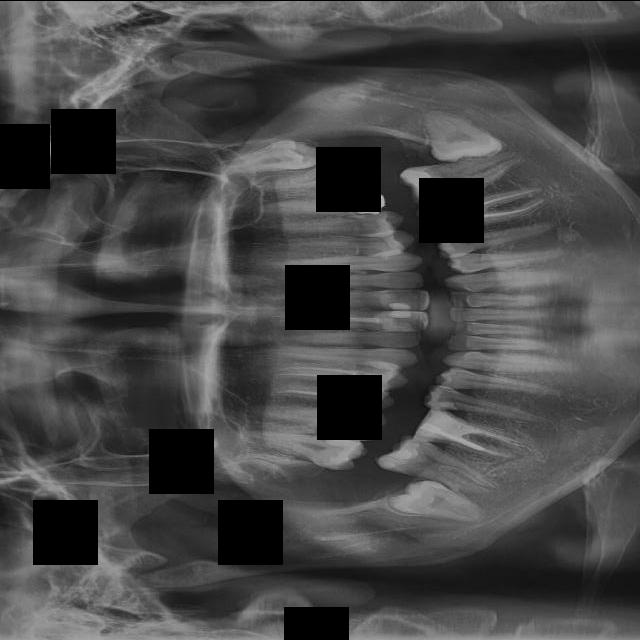72: (230, 448, 322, 488)
74: (477, 198, 546, 220), (468, 188, 534, 210), (472, 426, 523, 446), (277, 387, 354, 399), (276, 313, 378, 322), (276, 369, 356, 380), (278, 363, 357, 374), (483, 447, 509, 459)
NucleOSS Implant: (326, 181, 387, 226)
Sterngold Implant: (441, 232, 458, 239)
Straumann Implant: (419, 407, 476, 445), (420, 198, 480, 234), (380, 432, 426, 476), (421, 420, 486, 451), (337, 401, 381, 444), (355, 353, 400, 395), (399, 158, 440, 202), (324, 431, 366, 468), (376, 310, 428, 332), (376, 288, 429, 309), (345, 387, 389, 411), (425, 399, 459, 411), (388, 309, 413, 318), (388, 301, 411, 310)
